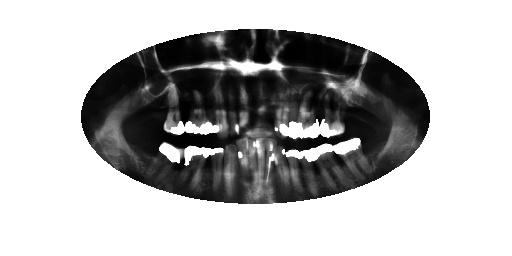Fillings: (306, 142, 347, 189), (147, 141, 184, 182), (179, 145, 211, 189), (335, 137, 370, 177), (184, 90, 213, 136), (318, 93, 346, 138), (163, 83, 185, 136), (299, 89, 319, 140), (297, 149, 317, 193), (275, 92, 291, 139), (213, 89, 229, 136), (286, 148, 303, 190), (210, 147, 224, 189), (289, 89, 299, 140)
